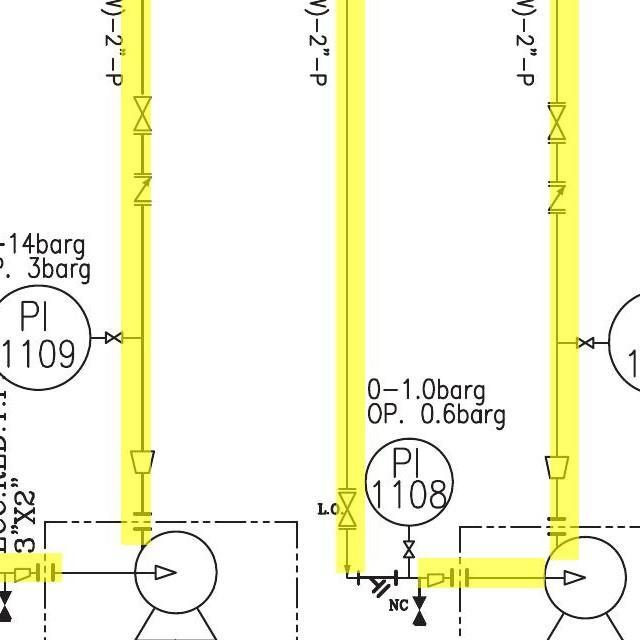GV: (540, 98, 570, 149), (335, 481, 359, 536), (128, 92, 158, 133), (400, 540, 418, 565)
P: (130, 527, 224, 640), (541, 532, 632, 640)
SP: (127, 447, 158, 479), (543, 452, 572, 485), (11, 560, 35, 588), (570, 332, 599, 352), (424, 570, 449, 589)
